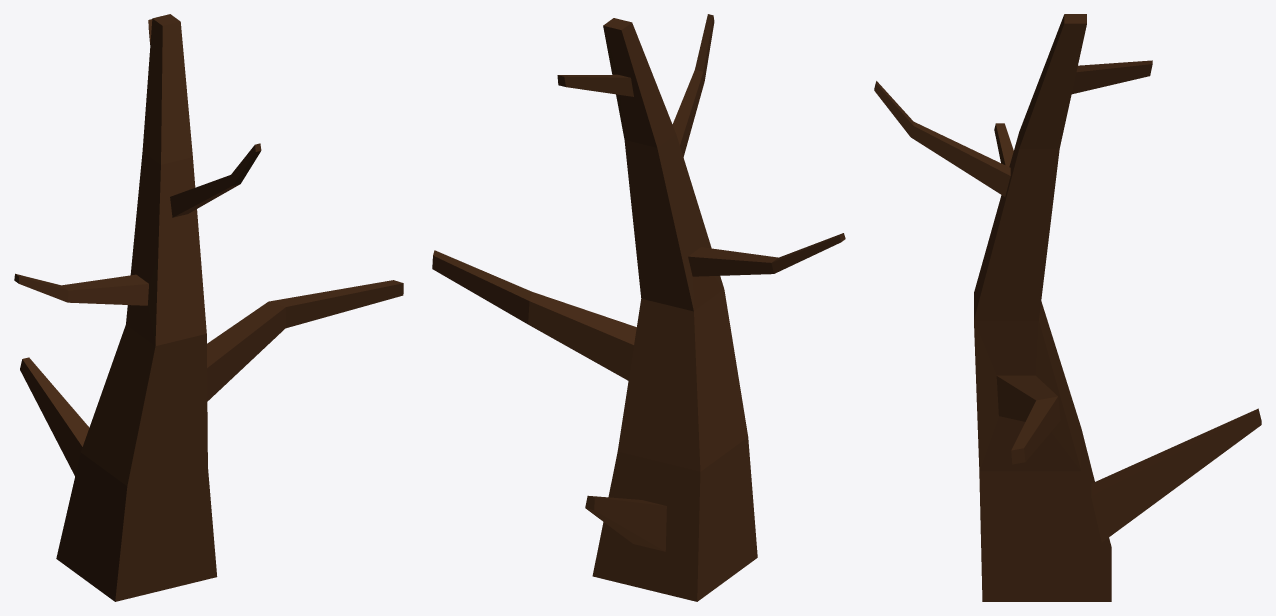
File: Dorre Boom Design 3.fbx
The picture shows the model from 3 angles, left to right: view 1: azimuth 30°, elevation 25°; view 2: azimuth 150°, elevation 25°; view 3: azimuth 270°, elevation 25°; orthographic projection. The views are drawn at different scales.
Visible parts, largest first — view 1: Dode boom Design 3; view 2: Dode boom Design 3; view 3: Dode boom Design 3.
Boxes of the visible parts, box(x1,y1,x2,y2) form: Dode boom Design 3: box(14, 14, 403, 601); Dode boom Design 3: box(432, 14, 845, 601); Dode boom Design 3: box(874, 14, 1261, 601).
Size of the model in its own units: 443 by 568 by 344.
